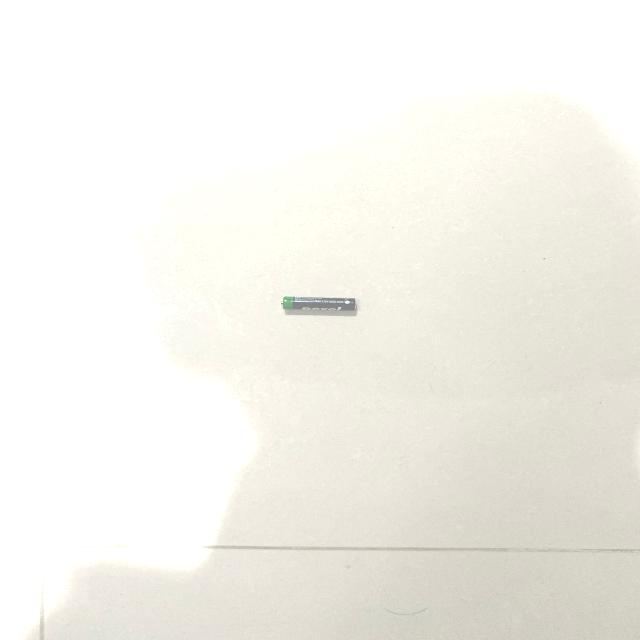AAA: (281, 296, 357, 312)
